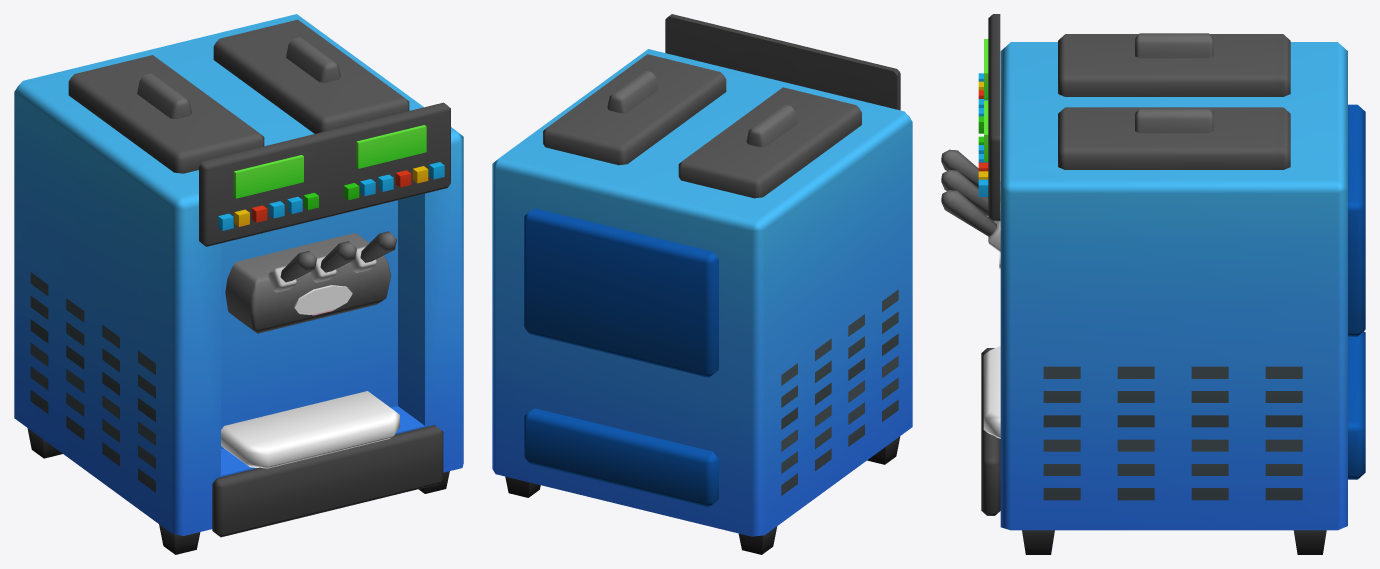
Rendered from Map02_Maylamkem_LV4.fbx.
3 renders of one model, left to right at view 1: azimuth 30°, elevation 25°; view 2: azimuth 150°, elevation 25°; view 3: azimuth 270°, elevation 25°, orthographic. The views are drawn at different scales.
Parts seen in each view (by area): view 1: Map02_Maylamkem_LV4; view 2: Map02_Maylamkem_LV4; view 3: Map02_Maylamkem_LV4.
Boxes of the visible parts, bbox=[...] form: Map02_Maylamkem_LV4: bbox=[14, 14, 463, 554]; Map02_Maylamkem_LV4: bbox=[492, 14, 912, 554]; Map02_Maylamkem_LV4: bbox=[941, 14, 1365, 554].
Bounding box in the file's own units: 97.99 × 128 × 119.
